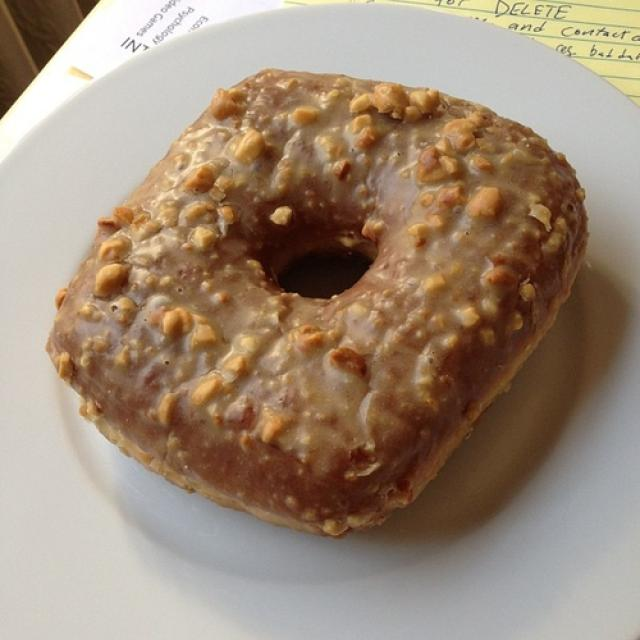炸货点心: (26, 55, 608, 572)
